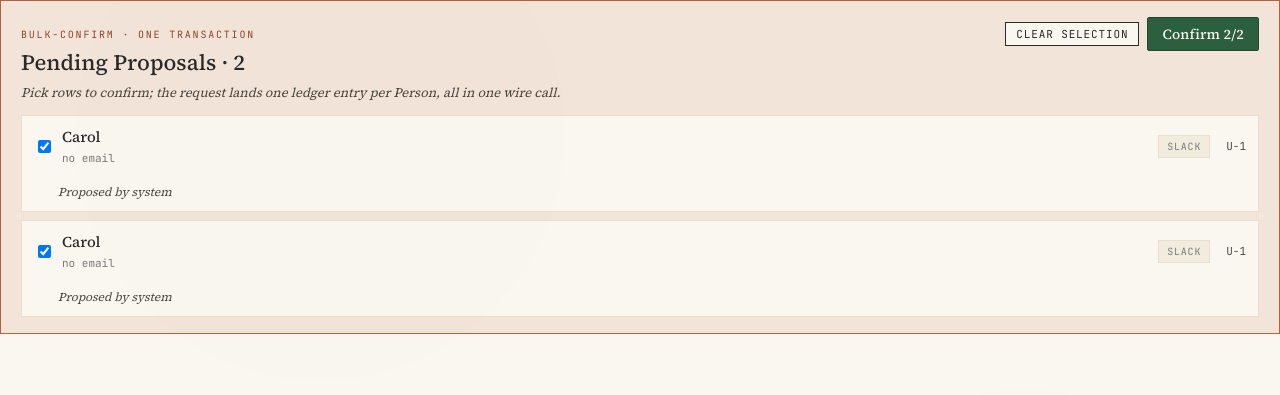
Test: BulkConfirmDrawer › POSTs all selected ids in one body
Click the button with test id "bulk-confirm-submit".
click(1203, 34)  # box [1148,17,1259,51]
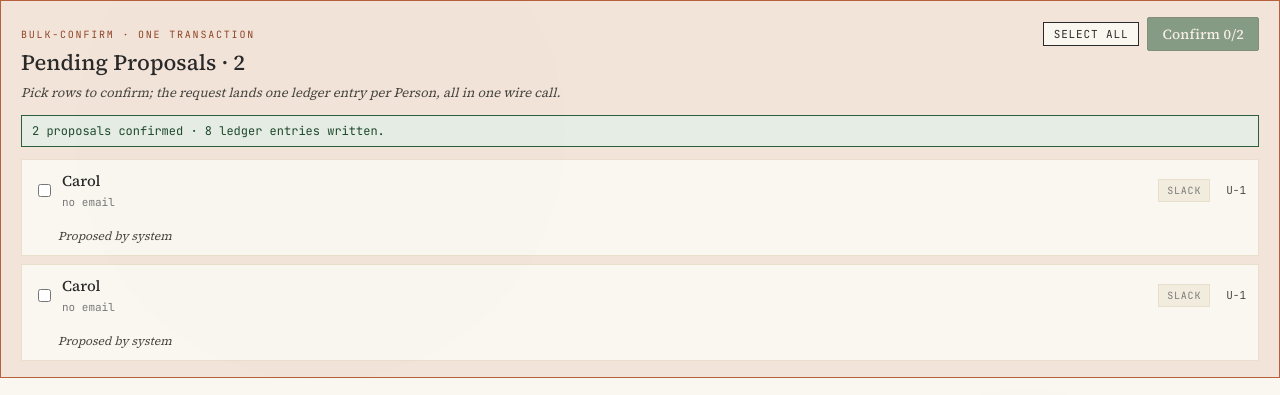
Now the message with test id "bulk-confirm-success" shows "2 proposals confirmed", box [32,122,385,138]
